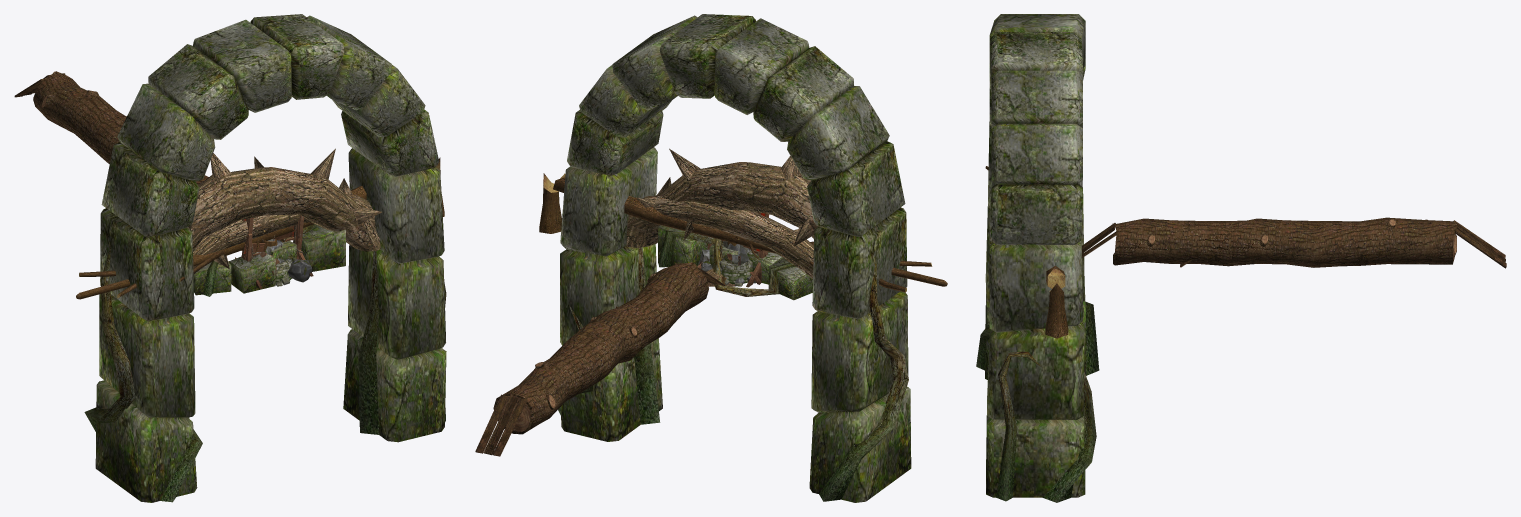
Rendered from runner-game-models--obstacles.glb.
3 renders of one model, left to right at view 1: azimuth 30°, elevation 25°; view 2: azimuth 150°, elevation 25°; view 3: azimuth 270°, elevation 25°, orthographic. The views are drawn at different scales.
Visible parts, largest first — view 1: Ruins_Arch_01, Thorn07, Ruins_Blocks_02, Tree, tree_sg3, Tree_Start, Tree_End.002, Block_Slide, Stones; view 2: Ruins_Arch_01, Thorn07, Ruins_Blocks_02, Tree, Tree_End, Tree_Start, Tree_End.002, Tree_Start_Decks, Tree_Middle, tree_sg3, Stones, Ruins_Well_01; view 3: Ruins_Arch_01, Tree_End, Tree_Start, Tree_Middle, Tree_End.002, tree_sg3, Tree, Tree_Start_Decks.
Part boxes in pixels (x1,y1,x2,y2): Ruins_Arch_01: (84,14,446,502); Thorn07: (188,148,382,274); Ruins_Blocks_02: (193,224,345,296); Tree: (76,157,444,299); tree_sg3: (33,71,124,133); Tree_Start: (33,73,123,150); Tree_End.002: (92,116,123,163); Block_Slide: (241,215,313,288); Stones: (261,239,311,282); Ruins_Arch_01: (558,14,911,502); Thorn07: (625,148,818,278); Ruins_Blocks_02: (658,225,812,300); Tree: (539,173,947,292); Tree_End: (620,262,708,344); Tree_Start: (493,350,593,434); Tree_End.002: (572,306,631,389); Tree_Start_Decks: (475,394,527,456); Tree_Middle: (553,306,653,363); tree_sg3: (503,349,583,423); Stones: (697,241,756,283); Ruins_Well_01: (719,260,753,286); Ruins_Arch_01: (976,14,1099,502); Tree_End: (1112,218,1228,266); Tree_Start: (1341,217,1457,266); Tree_Middle: (1228,220,1341,267); Tree_End.002: (1226,218,1341,261); tree_sg3: (1341,217,1457,264); Tree: (985,166,1068,338); Tree_Start_Decks: (1453,220,1506,268).
Size of the model in its own units: 9.19 by 9.4 by 11.41.
15 materials, 15 textured.
